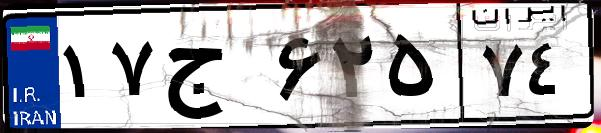1: (57, 26, 110, 100)
2: (330, 28, 385, 110)
4: (525, 38, 570, 115)
5: (385, 28, 445, 110)
6: (270, 28, 330, 110)
7: (475, 38, 525, 113), (110, 28, 158, 98)
ج: (158, 20, 270, 120)
